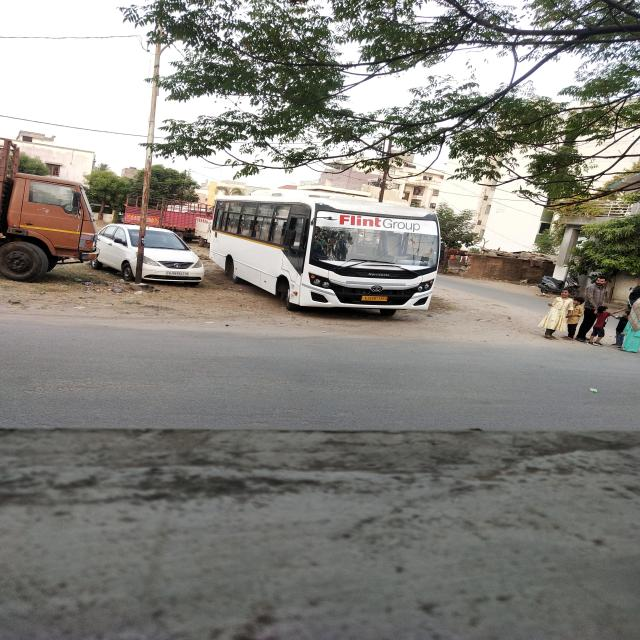Bus: (210, 192, 440, 316)
Car: (142, 228, 205, 286), (92, 225, 138, 282)
Truck: (0, 140, 97, 281)
